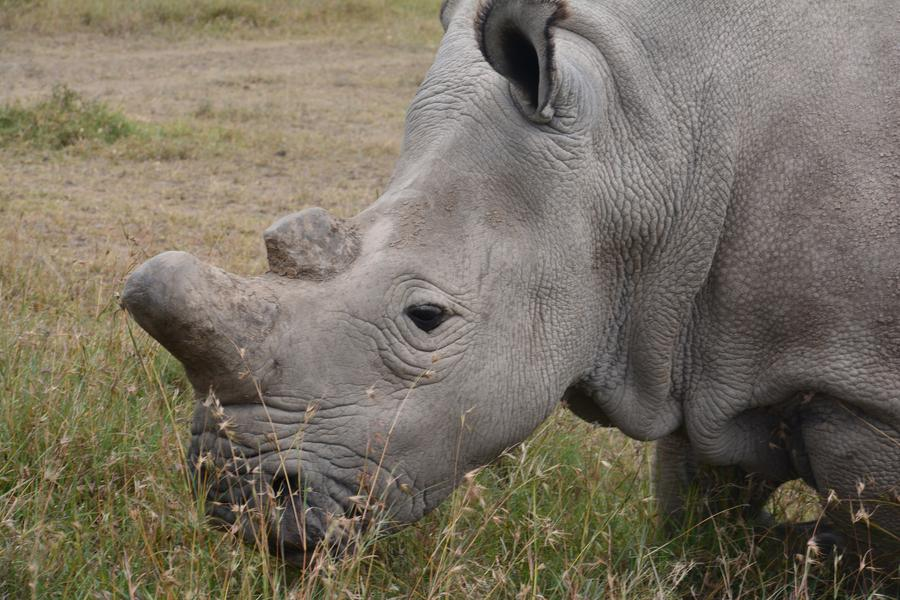rhino: (191, 6, 883, 532)
